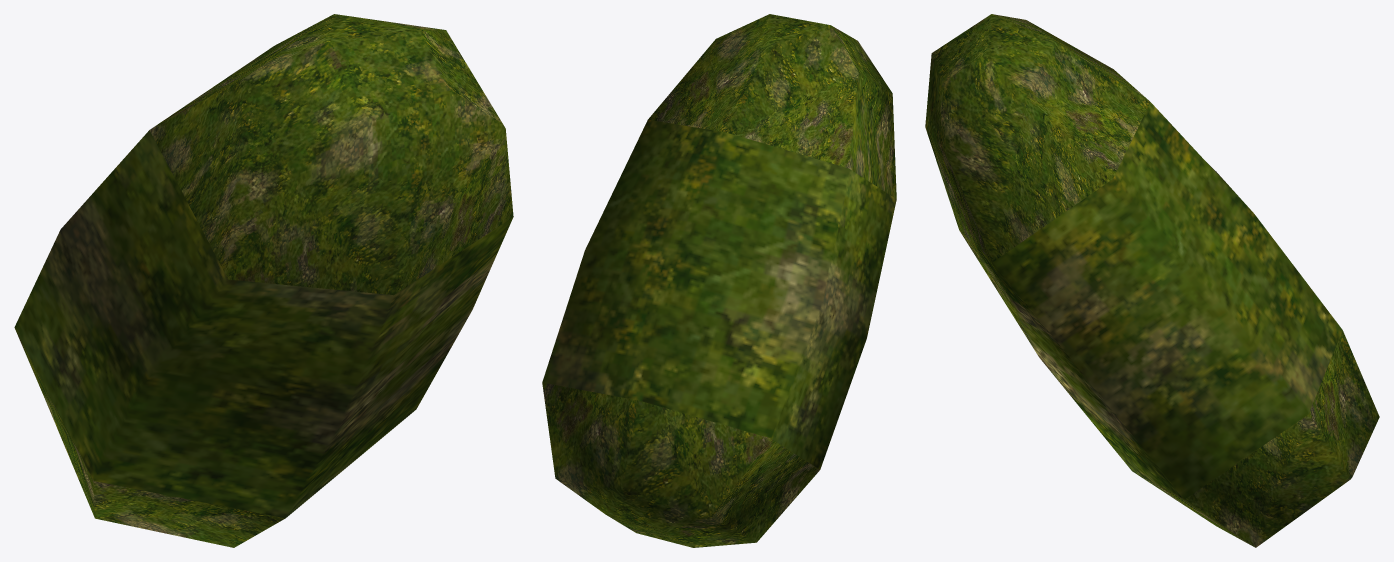
The model's file is OVERHILL_A_01_ROCK_BRIDGE04.fbx.
3 views of the same model, side by side, from view 1: azimuth 30°, elevation 25°; view 2: azimuth 150°, elevation 25°; view 3: azimuth 270°, elevation 25° (orthographic). The views are drawn at different scales.
Visible parts, largest first — view 1: OVERHILL_A_01_ROCK_BRIDGE04; view 2: OVERHILL_A_01_ROCK_BRIDGE04; view 3: OVERHILL_A_01_ROCK_BRIDGE04.
Part boxes in pixels (<box>): OVERHILL_A_01_ROCK_BRIDGE04: <box>14,14,513,547</box>; OVERHILL_A_01_ROCK_BRIDGE04: <box>542,14,896,547</box>; OVERHILL_A_01_ROCK_BRIDGE04: <box>925,14,1379,547</box>.
Size of the model in its own units: 9889 by 17453 by 14554.
1 material, 1 textured.
